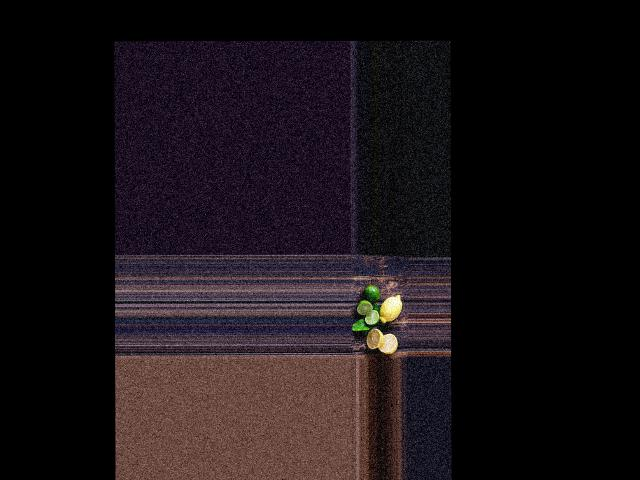lemon: (377, 293, 403, 324)
